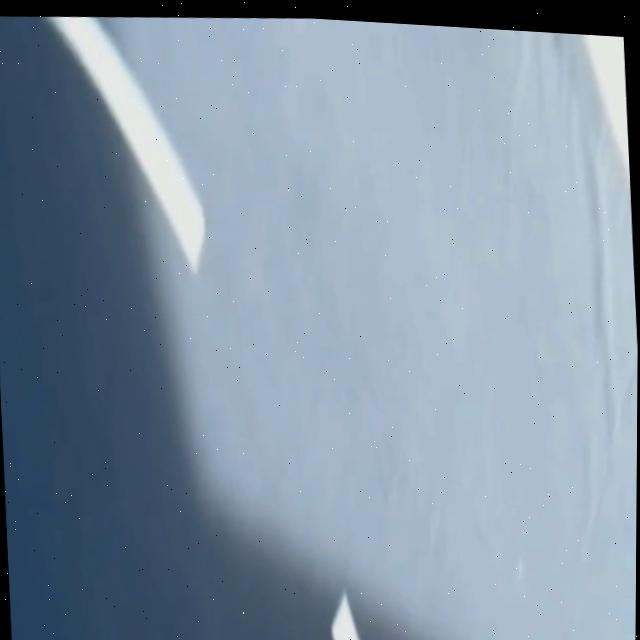center: (48, 17, 205, 272), (331, 592, 359, 640)
right: (584, 35, 629, 176)
